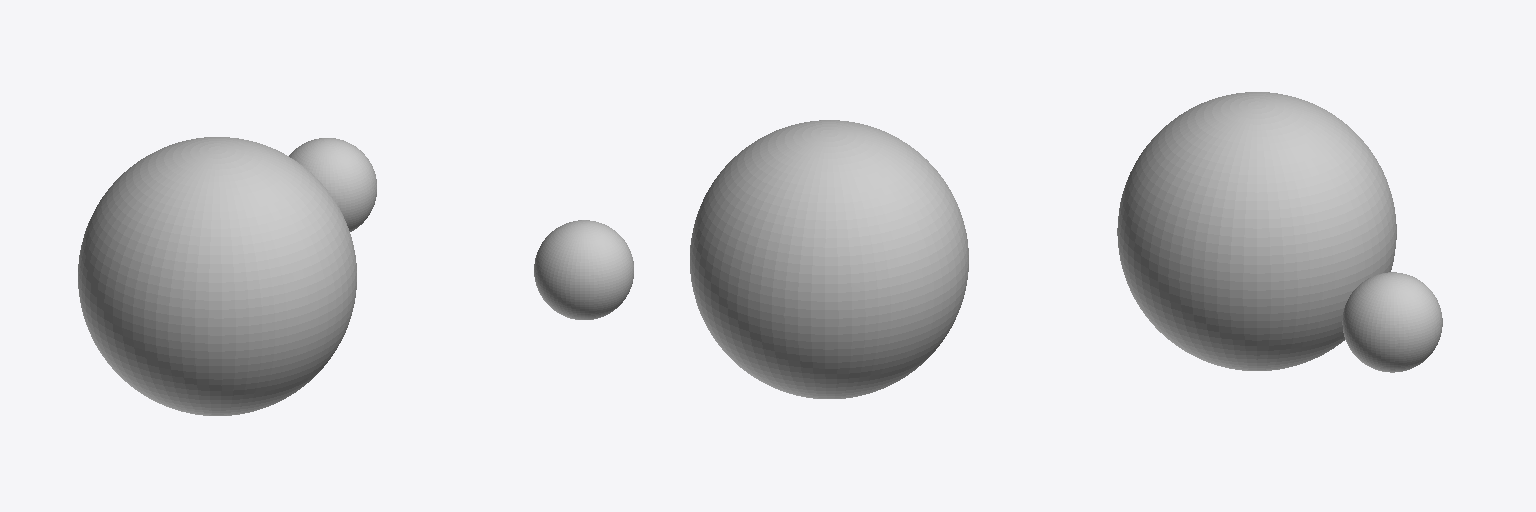
Rendered from Stylized_Planets.obj.
3 renders of one model, left to right at view 1: azimuth 30°, elevation 25°; view 2: azimuth 150°, elevation 25°; view 3: azimuth 270°, elevation 25°, orthographic.
Visible parts, largest first — view 1: Saturn, Moon; view 2: Saturn, Moon; view 3: Saturn, Moon.
Part boxes in pixels (left/top/right/bottom): Saturn: left=78, top=137, right=356, bottom=415; Moon: left=289, top=138, right=376, bottom=231; Saturn: left=690, top=120, right=968, bottom=398; Moon: left=534, top=220, right=633, bottom=319; Saturn: left=1117, top=92, right=1396, bottom=370; Moon: left=1342, top=272, right=1442, bottom=372.
Size of the model in its own units: 2.83 by 2 by 2.33.